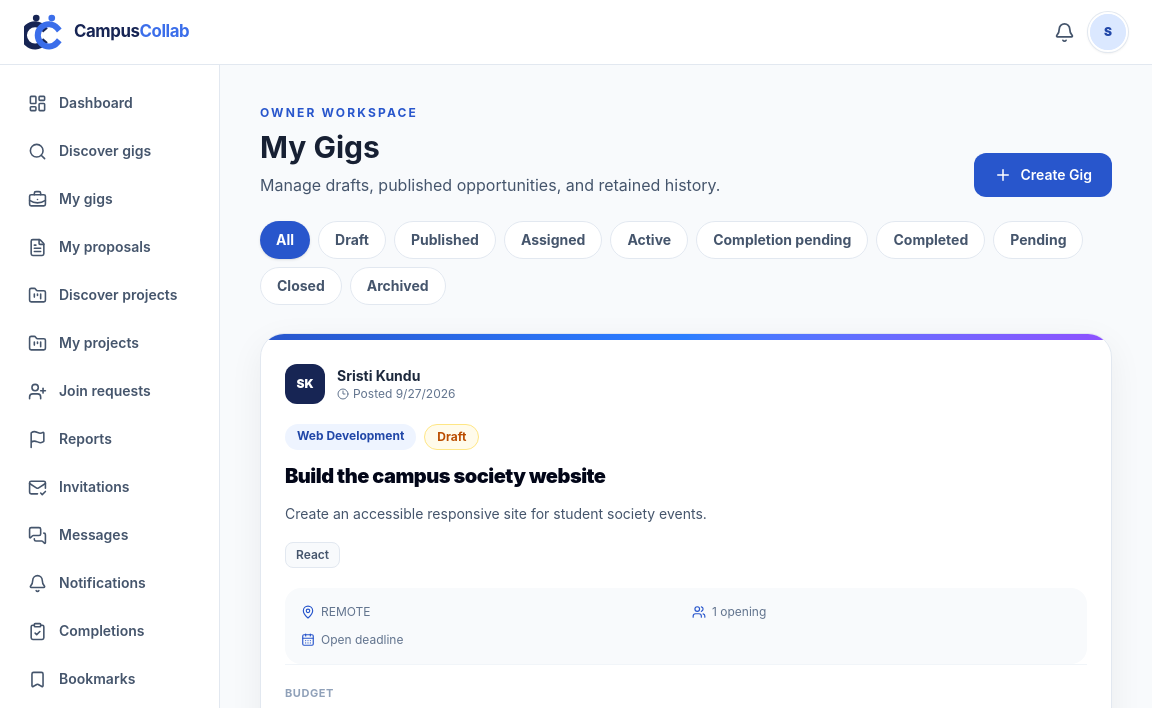
Gigs Marketplace › sends each owner status filter to the backend and shows an accurate empty state
The image size is (1152, 708).
Expected: the text named "Gig status: Draft" is shown, [424,424,479,450]
Click the button "Published".
click(445, 240)  # box [394,221,496,259]
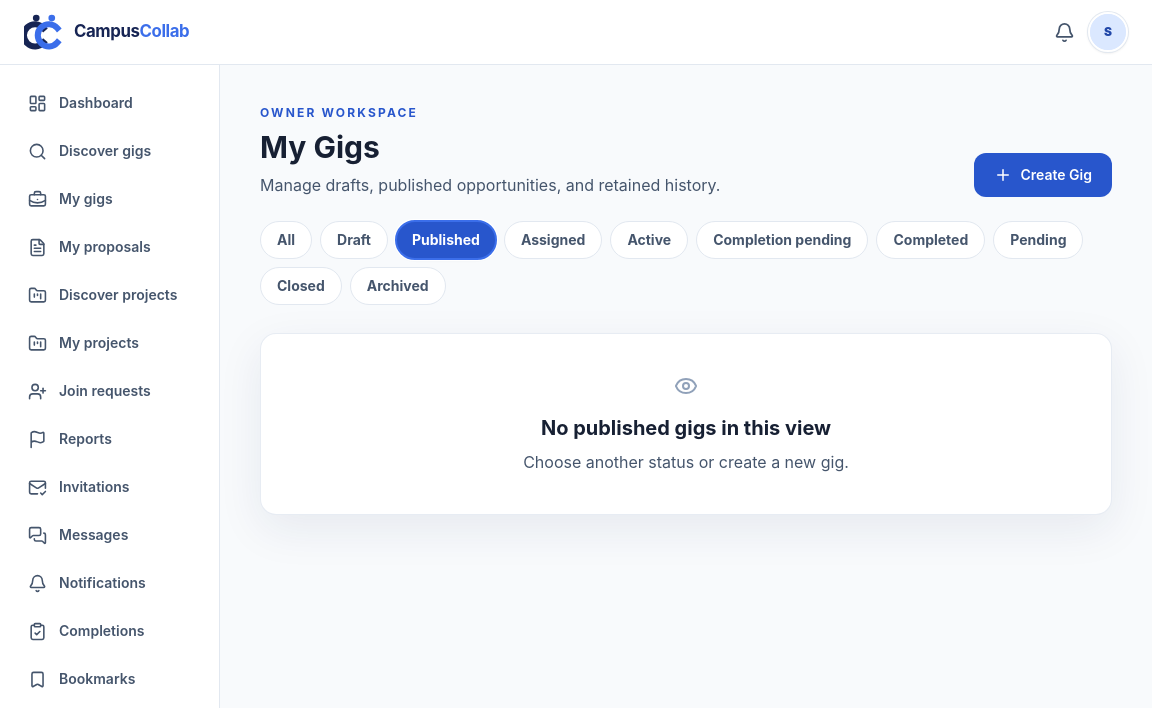
Expected: the heading "No published gigs in this view" is shown, [541,416,831,440]
